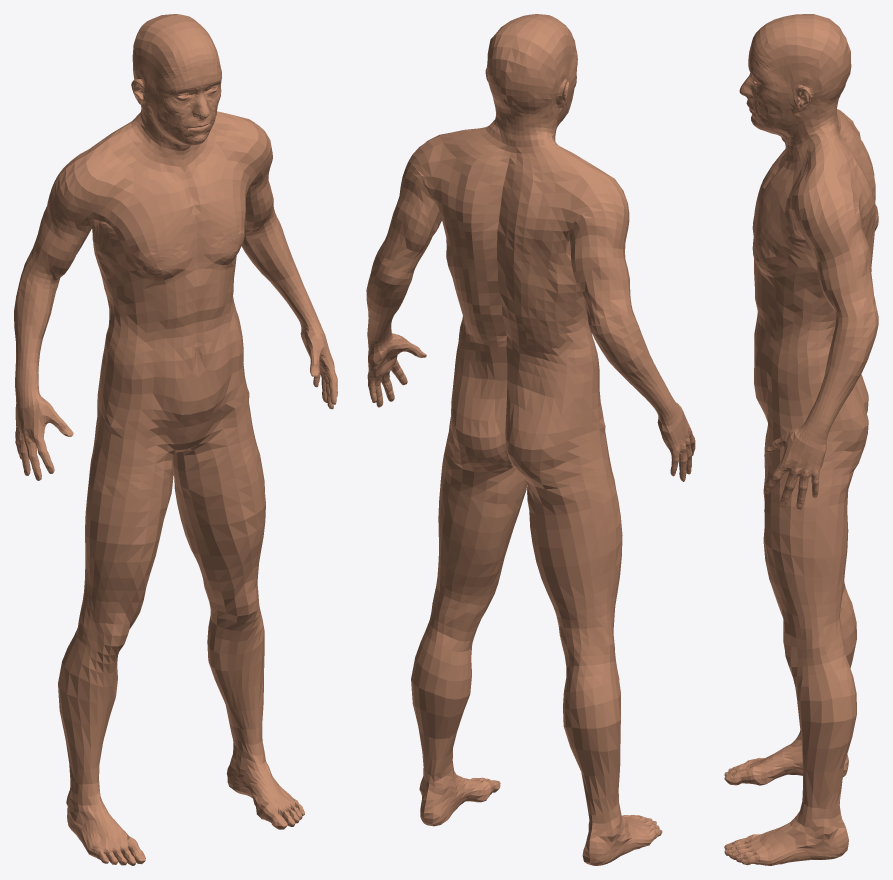
Rendered from bold_cowboy_mh_rodin.glb.
The picture shows the model from 3 angles, left to right: view 1: azimuth 30°, elevation 25°; view 2: azimuth 150°, elevation 25°; view 3: azimuth 270°, elevation 25°; orthographic projection.
Parts seen in each view (by area): view 1: rodin; view 2: rodin; view 3: rodin.
Part boxes in pixels (<box>): rodin: <box>14,14,337,865</box>; rodin: <box>366,14,695,865</box>; rodin: <box>724,14,878,865</box>.
Size of the model in its own units: 0.7505 by 1.85 by 0.3235.
1 material, 1 textured.
